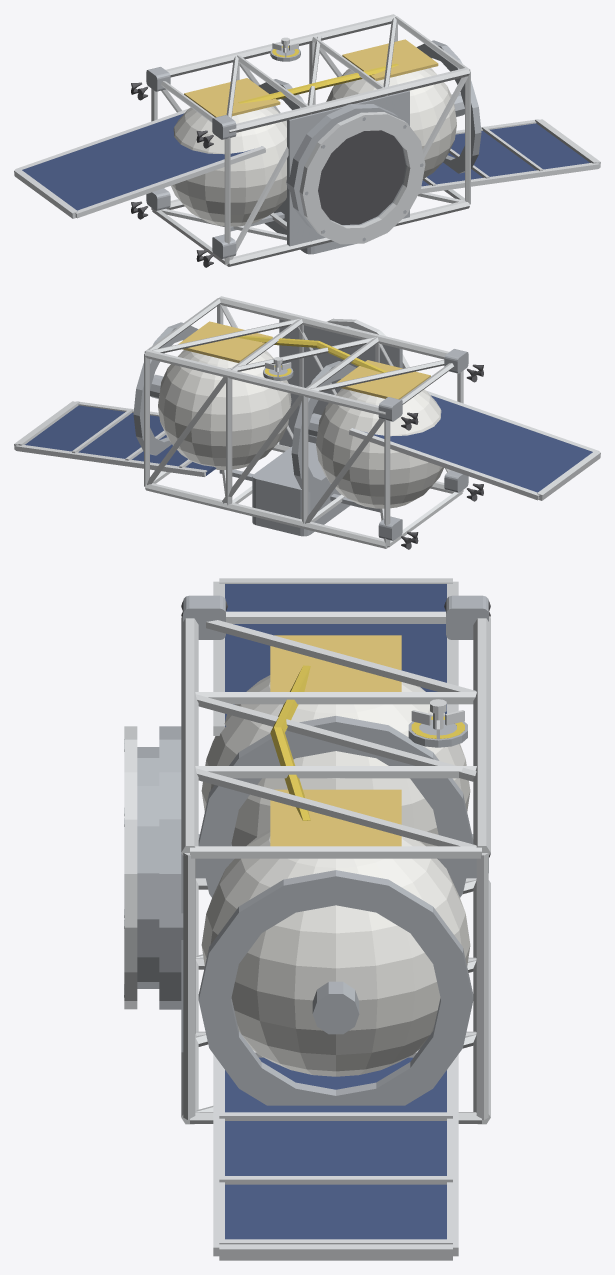
The model's file is orbital-station-and-docking-bays-propellant-tanker-698d0a8e__24571.glb.
3 views of the same model, one above another, from view 1: azimuth 30°, elevation 25°; view 2: azimuth 150°, elevation 25°; view 3: azimuth 270°, elevation 25° (orthographic). The views are drawn at different scales.
Visible parts, largest first — view 1: propellant-tanker; view 2: propellant-tanker; view 3: propellant-tanker.
Part boxes in pixels (<box>): propellant-tanker: <box>14,14,600,267</box>; propellant-tanker: <box>14,296,600,549</box>; propellant-tanker: <box>124,578,490,1260</box>.
Size of the model in its own units: 8.36 by 2.6 by 2.51.
